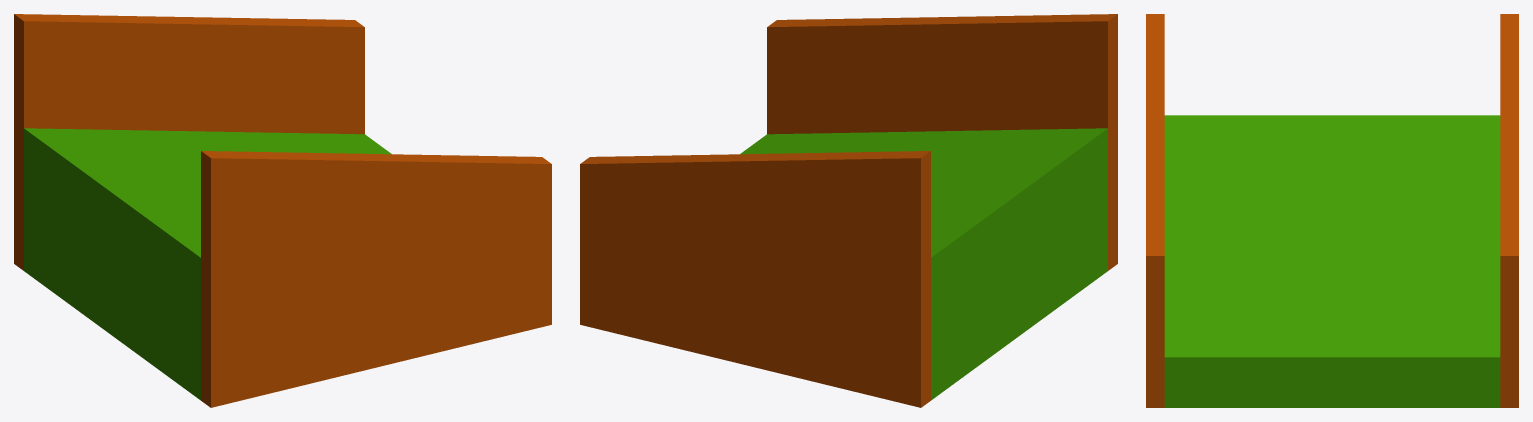
File: slope_narrow.fbx
3 views of the same model, side by side, from view 1: azimuth 30°, elevation 25°; view 2: azimuth 150°, elevation 25°; view 3: azimuth 270°, elevation 25° (orthographic). The views are drawn at different scales.
Parts seen in each view (by area): view 1: Plane; view 2: Plane; view 3: Plane.
Boxes of the visible parts, left/top/right/bottom form: Plane: left=14, top=14, right=551, bottom=407; Plane: left=580, top=14, right=1117, bottom=407; Plane: left=1146, top=14, right=1518, bottom=407.
Size of the model in its own units: 200 by 140 by 200.
